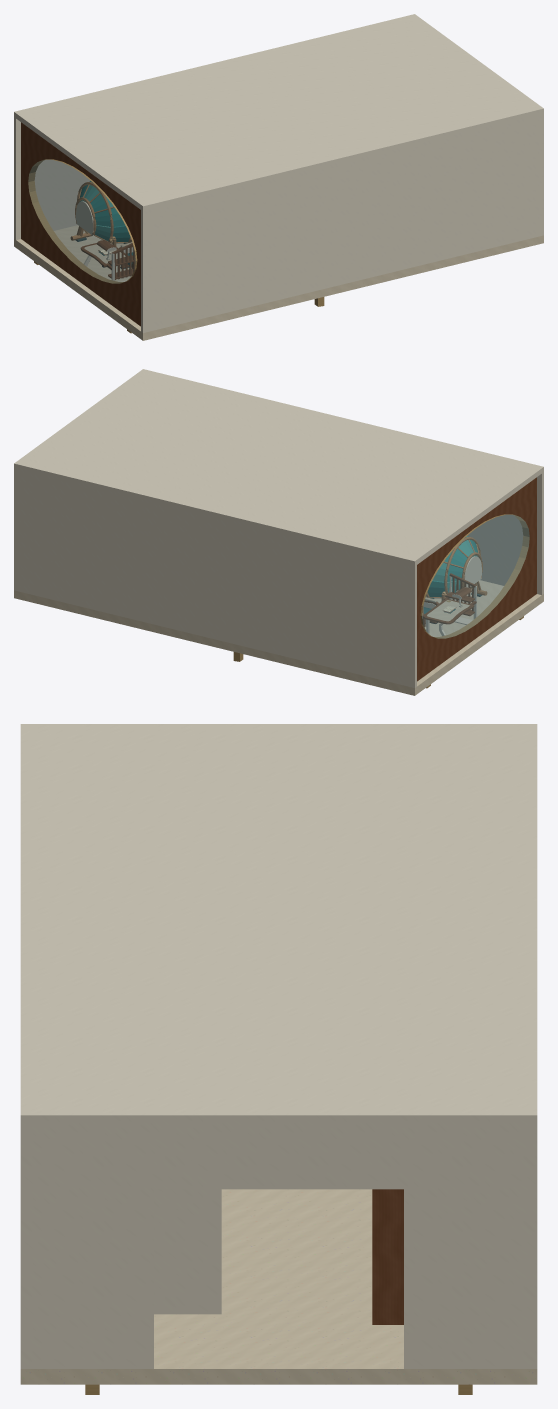
Rendered from NightGardenD15Specialty_536_r001.glb.
3 renders of one model, top to bottom at view 1: azimuth 30°, elevation 25°; view 2: azimuth 150°, elevation 25°; view 3: azimuth 270°, elevation 25°, orthographic. The views are drawn at different scales.
Visible parts, largest first — view 1: NG536_Ceiling, NG536_SouthSide, NG536_OvalAtriumGlass, NG536_RoomFloor, NG536_OvalWindowReveal, NG536_NorthSide, NG536_OvalDepthReturn, NG536_ReservedRestSupport_01__Rear ivory acoustic diffuser; view 2: NG536_Ceiling, NG536_NorthSide, NG536_OvalAtriumGlass, NG536_RoomFloor, NG536_OvalWindowReveal, NG536_SouthSide, NG536_OvalDepthReturn, NG536_LibraryStudyEdge__SINGLE_inset_stone_writing_surface; view 3: NG536_Ceiling, NG536_RoomFloor, NG536_EntryShoulderNorth, NG536_EntryShoulderSouth, NG536_EntryHeader, NG536_WashEntrySide, NG536_EntryPrivacyDogleg, NG536_NorthSide, NG536_SouthSide.
Part boxes in pixels (bbox=[...]): NG536_Ceiling: bbox=[14, 14, 543, 211]; NG536_SouthSide: bbox=[141, 114, 543, 332]; NG536_OvalAtriumGlass: bbox=[28, 160, 135, 283]; NG536_RoomFloor: bbox=[14, 225, 543, 340]; NG536_OvalWindowReveal: bbox=[21, 122, 140, 326]; NG536_NorthSide: bbox=[14, 117, 90, 239]; NG536_OvalDepthReturn: bbox=[28, 159, 137, 283]; NG536_ReservedRestSupport_01__Rear ivory acoustic diffuser: bbox=[76, 201, 93, 235]; NG536_Ceiling: bbox=[14, 369, 543, 566]; NG536_NorthSide: bbox=[14, 469, 416, 687]; NG536_OvalAtriumGlass: bbox=[422, 515, 529, 638]; NG536_RoomFloor: bbox=[14, 580, 543, 695]; NG536_OvalWindowReveal: bbox=[417, 477, 536, 681]; NG536_SouthSide: bbox=[467, 472, 543, 594]; NG536_OvalDepthReturn: bbox=[420, 514, 529, 638]; NG536_LibraryStudyEdge__SINGLE_inset_stone_writing_surface: bbox=[427, 600, 469, 621]; NG536_Ceiling: bbox=[20, 724, 537, 1125]; NG536_RoomFloor: bbox=[20, 1189, 537, 1384]; NG536_EntryShoulderNorth: bbox=[404, 1125, 528, 1368]; NG536_EntryShoulderSouth: bbox=[29, 1125, 153, 1368]; NG536_EntryHeader: bbox=[150, 1125, 407, 1189]; NG536_WashEntrySide: bbox=[154, 1189, 221, 1314]; NG536_EntryPrivacyDogleg: bbox=[372, 1189, 403, 1324]; NG536_NorthSide: bbox=[528, 1125, 537, 1368]; NG536_SouthSide: bbox=[20, 1125, 29, 1368].
Size of the model in its own units: 12.9 by 4.91 by 7.2.
Materials: 67 (43 with a texture image).
